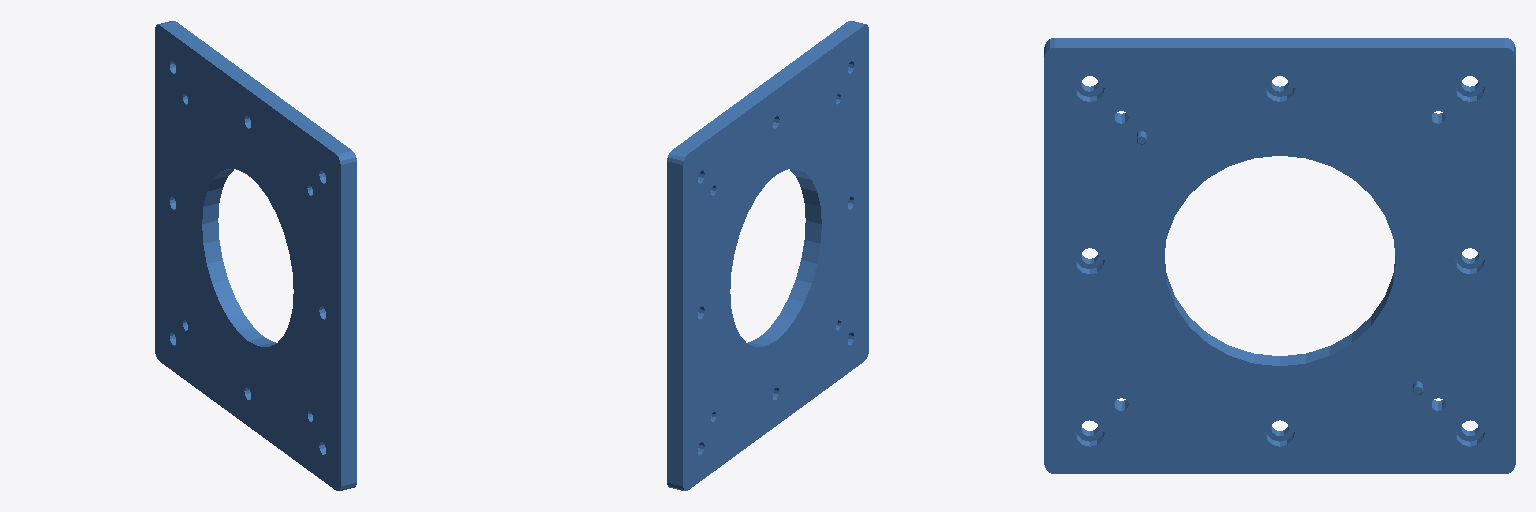
The robot description file, URDF, robot "vention_coro":
<?xml version="1.0" encoding="utf-8"?>
<!-- This URDF was automatically created by SolidWorks to URDF Exporter! Originally created by [author] ([email redacted]) 
     Commit Version: 1.6.0-1-g15f4949  Build Version: 1.6.7594.29634
     For more information, please see http://wiki.ros.org/sw_urdf_exporter -->
<robot
  name="vention_coro">
  <link
    name="footprint_link">
    <inertial>
      <origin
        xyz="1.79393071842651 0.297034309634098 0.108881965676957"
        rpy="0 0 0" />
      <mass
        value="10.0413409004563" />
      <inertia
        ixx="0.0719209419452194"
        ixy="-0.000181606483997931"
        ixz="-6.84090096017132E-05"
        iyy="0.0833511730209509"
        iyz="-2.95653187315697E-06"
        izz="0.0822842123436643" />
    </inertial>
    <visual>
      <origin
        xyz="0 0 0"
        rpy="0 0 0" />
      <geometry>
        <mesh
          filename="package://vention_coro/meshes/footprint_link.STL" />
      </geometry>
      <material
        name="">
        <color
          rgba="0.752941176470588 0.752941176470588 0.752941176470588 1" />
      </material>
    </visual>
    <collision>
      <origin
        xyz="0 0 0"
        rpy="0 0 0" />
      <geometry>
        <mesh
          filename="package://vention_coro/meshes/footprint_link.STL" />
      </geometry>
    </collision>
  </link>
  <link
    name="surface">
    <inertial>
      <origin
        xyz="1.92312561708707E-09 0.00560028791638656 3.69420782853069E-09"
        rpy="0 0 0" />
      <mass
        value="0.441513794474777" />
      <inertia
        ixx="0.0021724230362444"
        ixy="7.50784946522587E-13"
        ixz="-9.24204893927414E-07"
        iyy="0.00433553756927177"
        iyz="1.38023844737153E-12"
        izz="0.00217242292501513" />
    </inertial>
    <visual>
      <origin
        xyz="0 0 0"
        rpy="0 0 0" />
      <geometry>
        <mesh
          filename="package://vention_coro/meshes/surface.STL" />
      </geometry>
      <material
        name="">
        <color
          rgba="0.337254901960784 0.529411764705882 0.756862745098039 1" />
      </material>
    </visual>
    <collision>
      <origin
        xyz="0 0 0"
        rpy="0 0 0" />
      <geometry>
        <mesh
          filename="package://vention_coro/meshes/surface.STL" />
      </geometry>
    </collision>
  </link>
  <joint
    name="surface_joint"
    type="fixed">
    <origin
      xyz="1.7989 -0.10632 0.70167"
      rpy="1.5708 0 1.5708" />
    <parent
      link="footprint_link" />
    <child
      link="surface" />
    <axis
      xyz="-1 0 0" />
  </joint>
</robot>

--- What the picture shows (computed from the rendered views, not written in the file) ---
Views: 3 orthographic renders of the robot side by side, from view 1: azimuth 30°, elevation 25°; view 2: azimuth 150°, elevation 25°; view 3: azimuth 270°, elevation 25°.
Model vention_coro with 2 links and 1 joints (1 fixed), rooted at footprint_link, posed every joint at zero.
Links seen in each view (by area): view 1: surface; view 2: surface; view 3: surface.
Link boxes in pixels (x1,y1,x2,y2): surface: (155,21,356,490); surface: (667,21,868,490); surface: (1044,38,1515,473).
Bounding box of the posed robot: 0.0163 × 0.223 × 0.223 m (x, y, z).
1 mesh visuals loaded from 2 distinct referenced files (1 binary STL); not drawn: 1 (reference not matched to a file when rendering).
